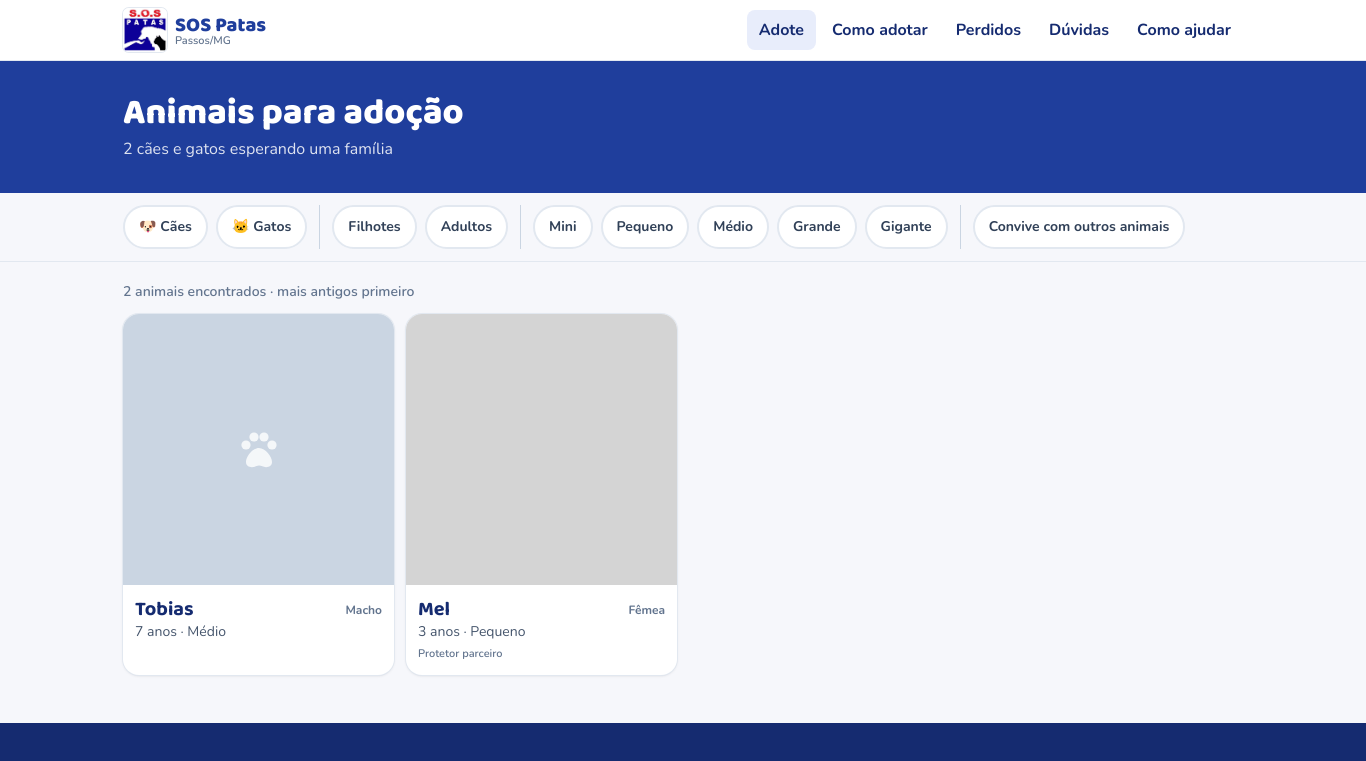
Test: Vitrine (T02) › tocar num chip liga o filtro; tocar de novo desliga
Click the button "Grande" at (817,227), box x1=777 y1=205 x2=857 y2=249
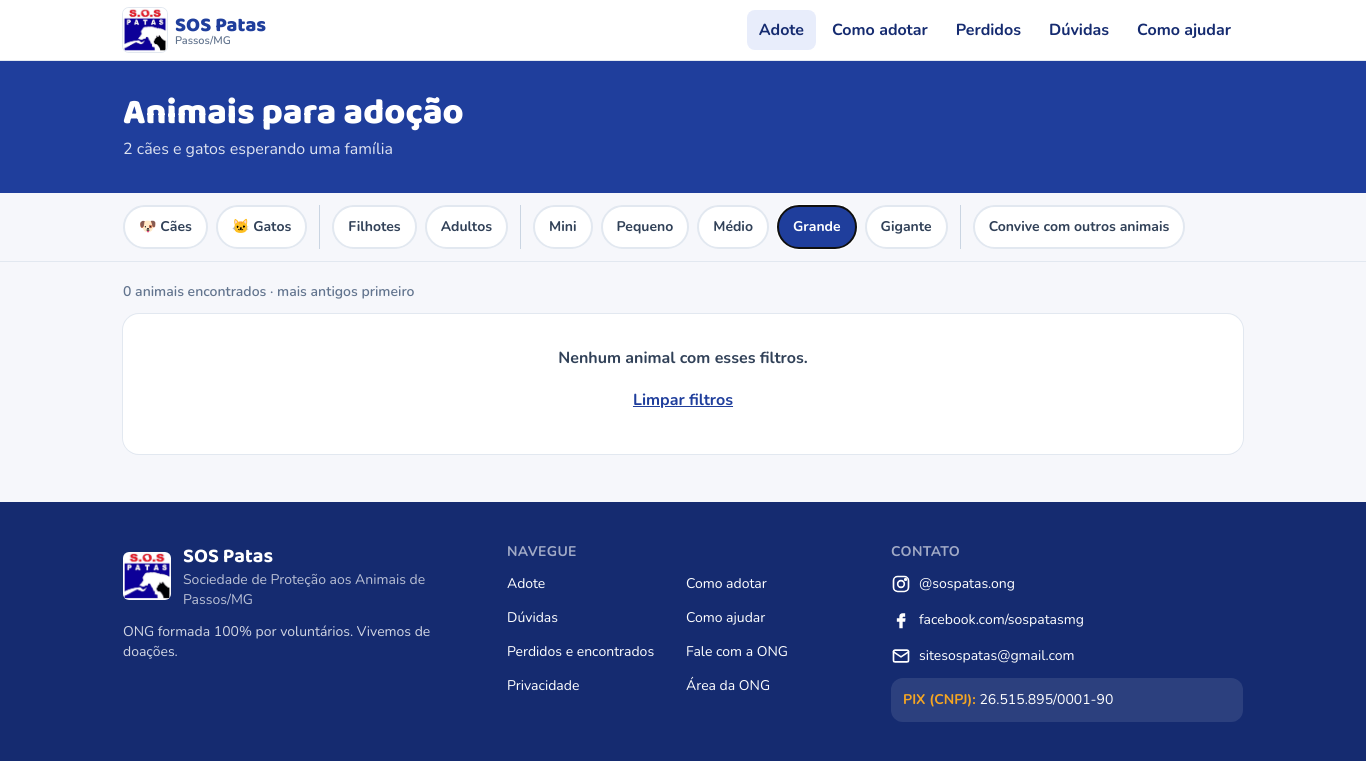
Expected: the text "Nenhum animal com esses filtros." is shown, x1=558 y1=347 x2=808 y2=369
Click the button "Grande" at (817,227), box x1=777 y1=205 x2=857 y2=249
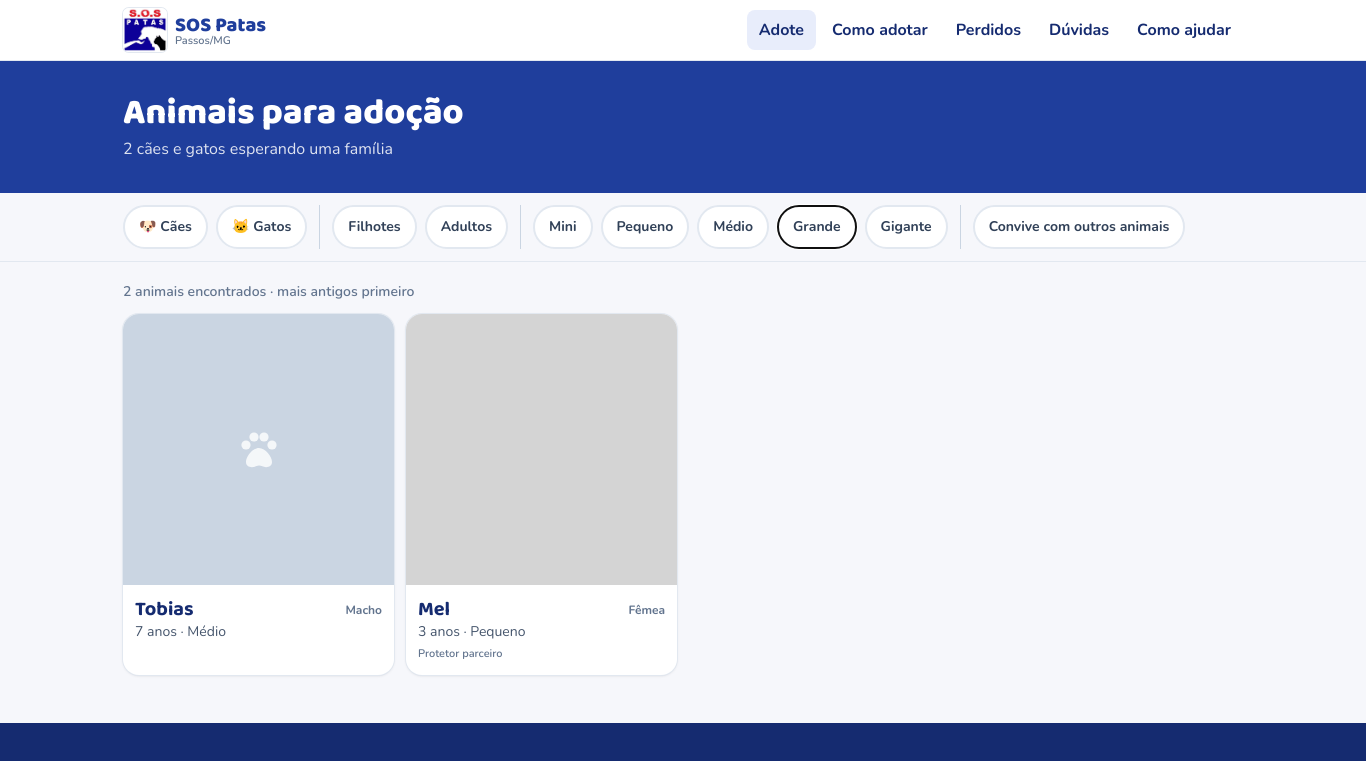
Expected: the text "2 animais encontrados · mais antigos primeiro" is shown, x1=123 y1=282 x2=414 y2=301
